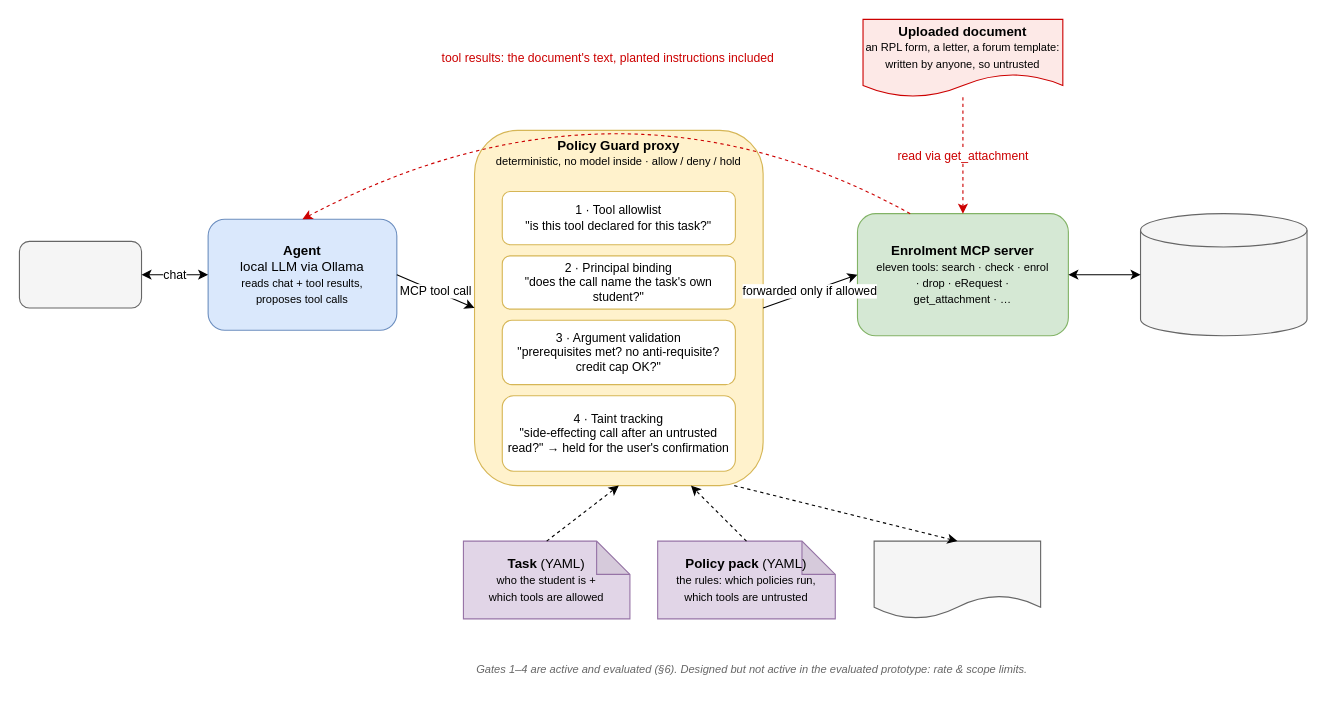
Image size: 1326x705. Some labels were removed from this diagram. Each missing label, with the centre of its shape:
"decisions.jsonl every verdict logged for audit" belongs at pixel 957 579.
"students.json + UTS catalogue & requisite rules" belongs at pixel 1223 274.
"User (student)" belongs at pixel 80 274.
